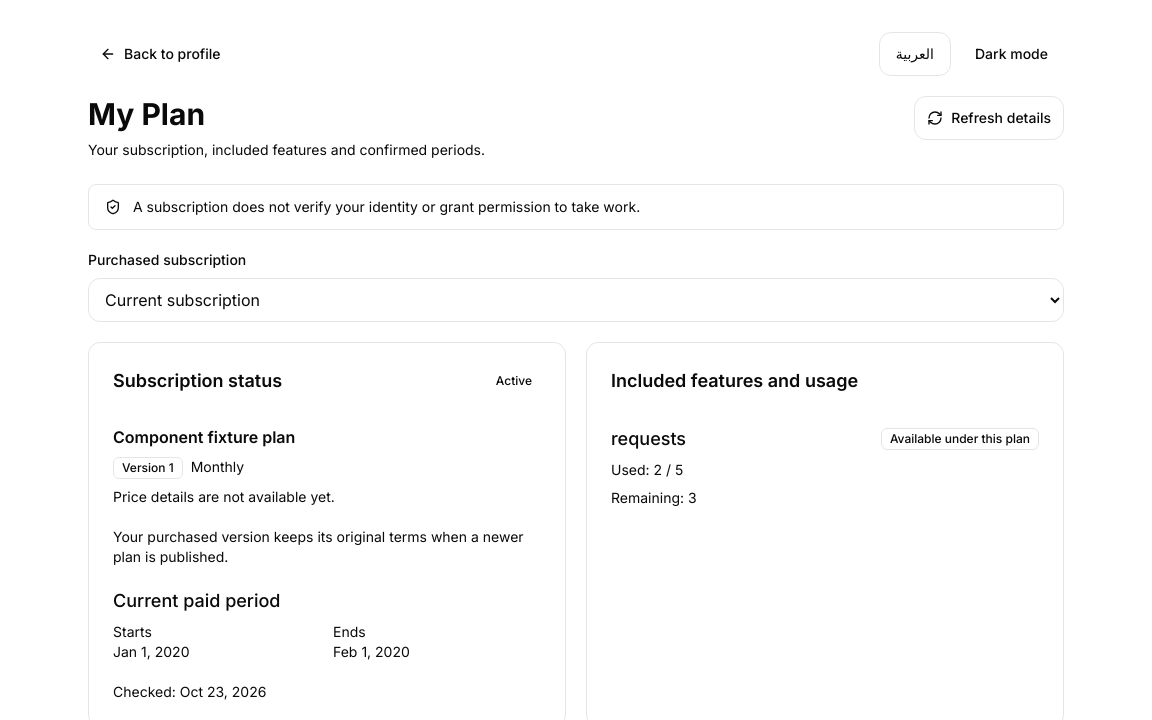
Test case: server-authoritative My Plan › refreshes changed status and usage from the server without changing the purchased version
Check: the text "Remaining: 3" is shown, box [611,489,697,506]
Click the button with test id "my-plan-refresh" at (989, 118), box [914,96,1064,140]
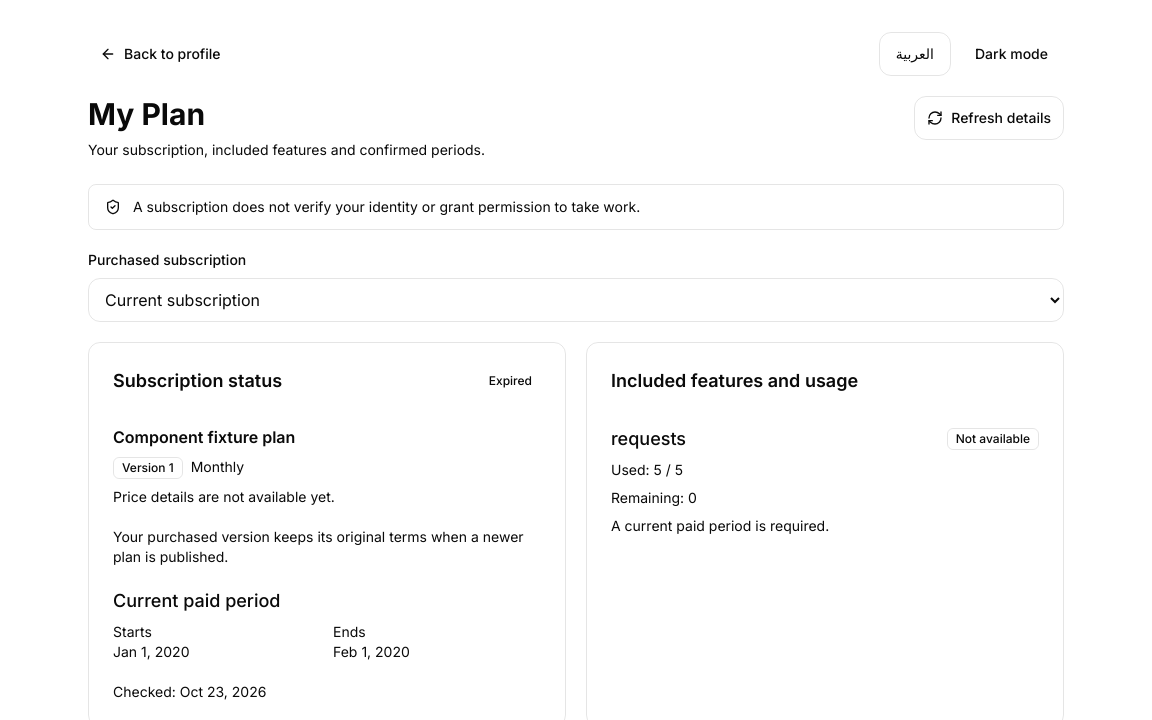
Check: the text "Version 1" is shown, box [113,457,183,479]
Check: the text with test id "my-plan-status" reads "Expired", box [489,373,532,388]
Check: the text "Remaining: 0" is shown, box [611,489,697,506]
